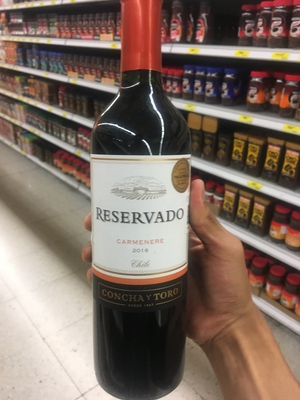reservado carmenere: (87, 12, 199, 389)
